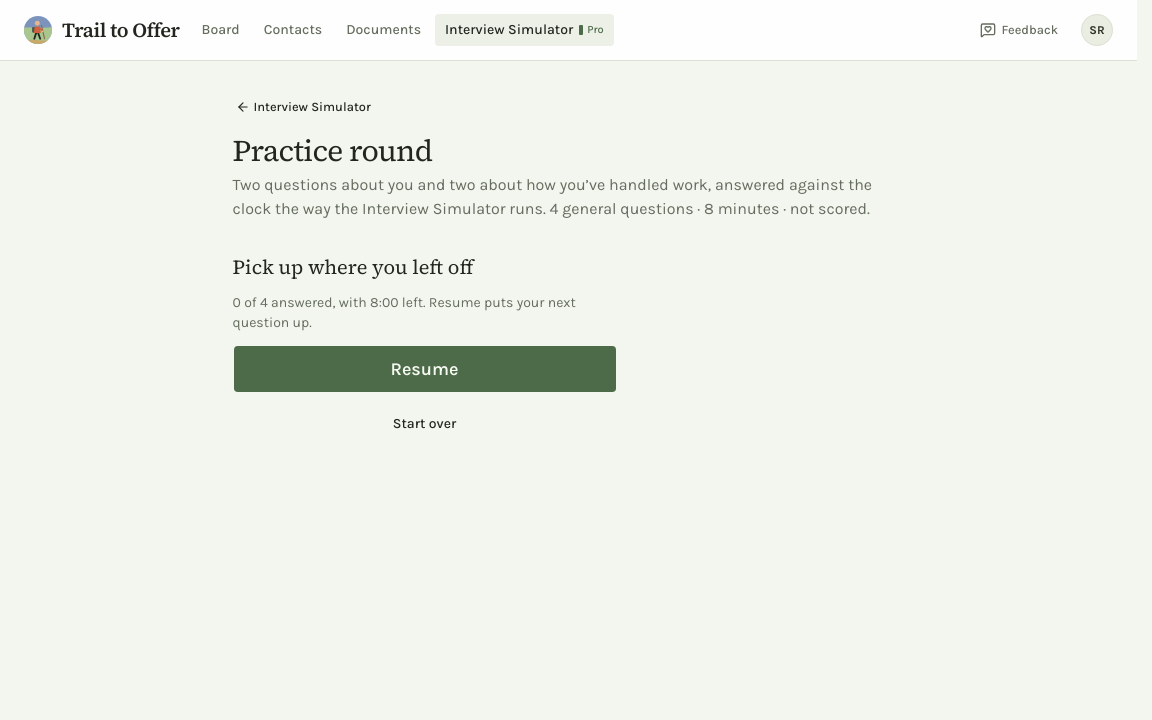
Test: taking a Practice round (practice round ticket 03) › PR-U5: an Answer goes to the round's own route, and the next question comes up
Click the button "Resume": (424, 369) [232,345,616,393]
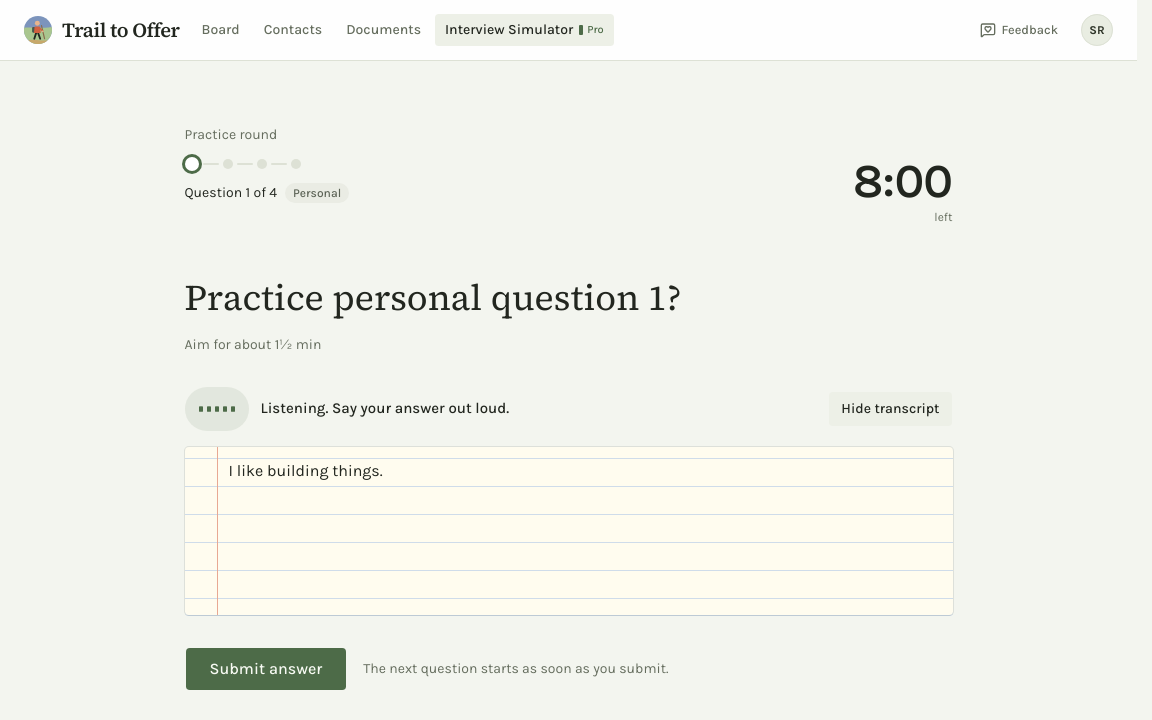
Click the button "Submit answer": (266, 668) [184,646,347,690]
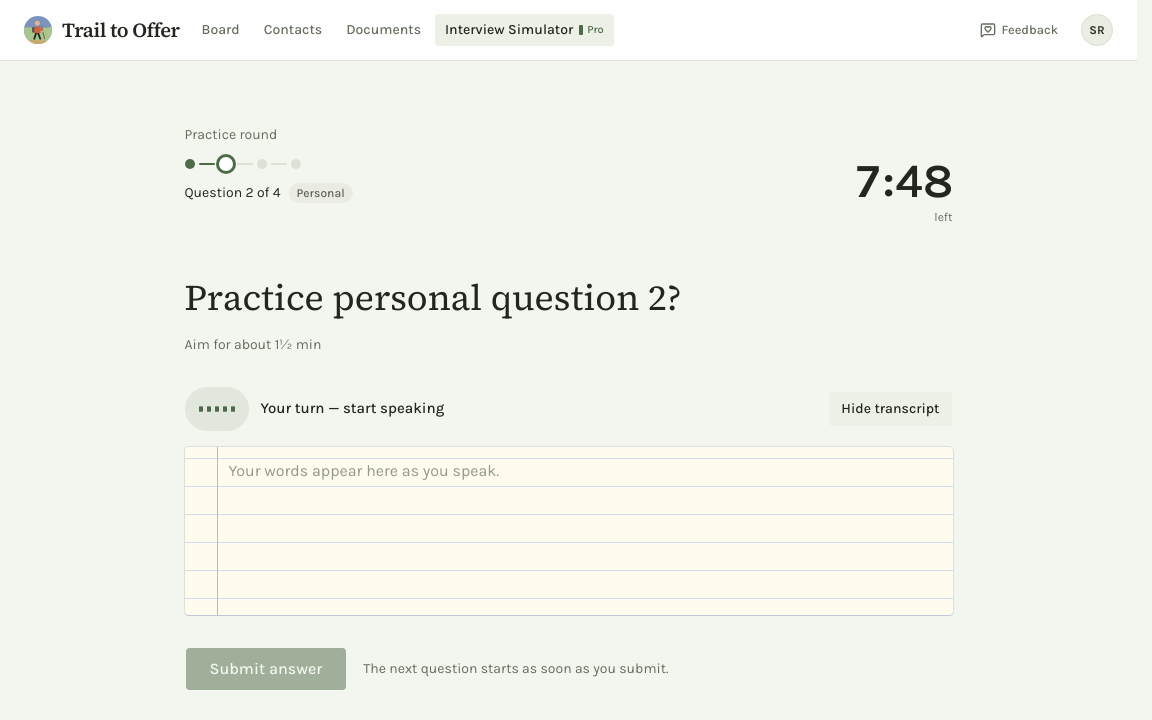
expect the heading "Practice personal question 2?" is shown: met, box [184,273,682,322]
